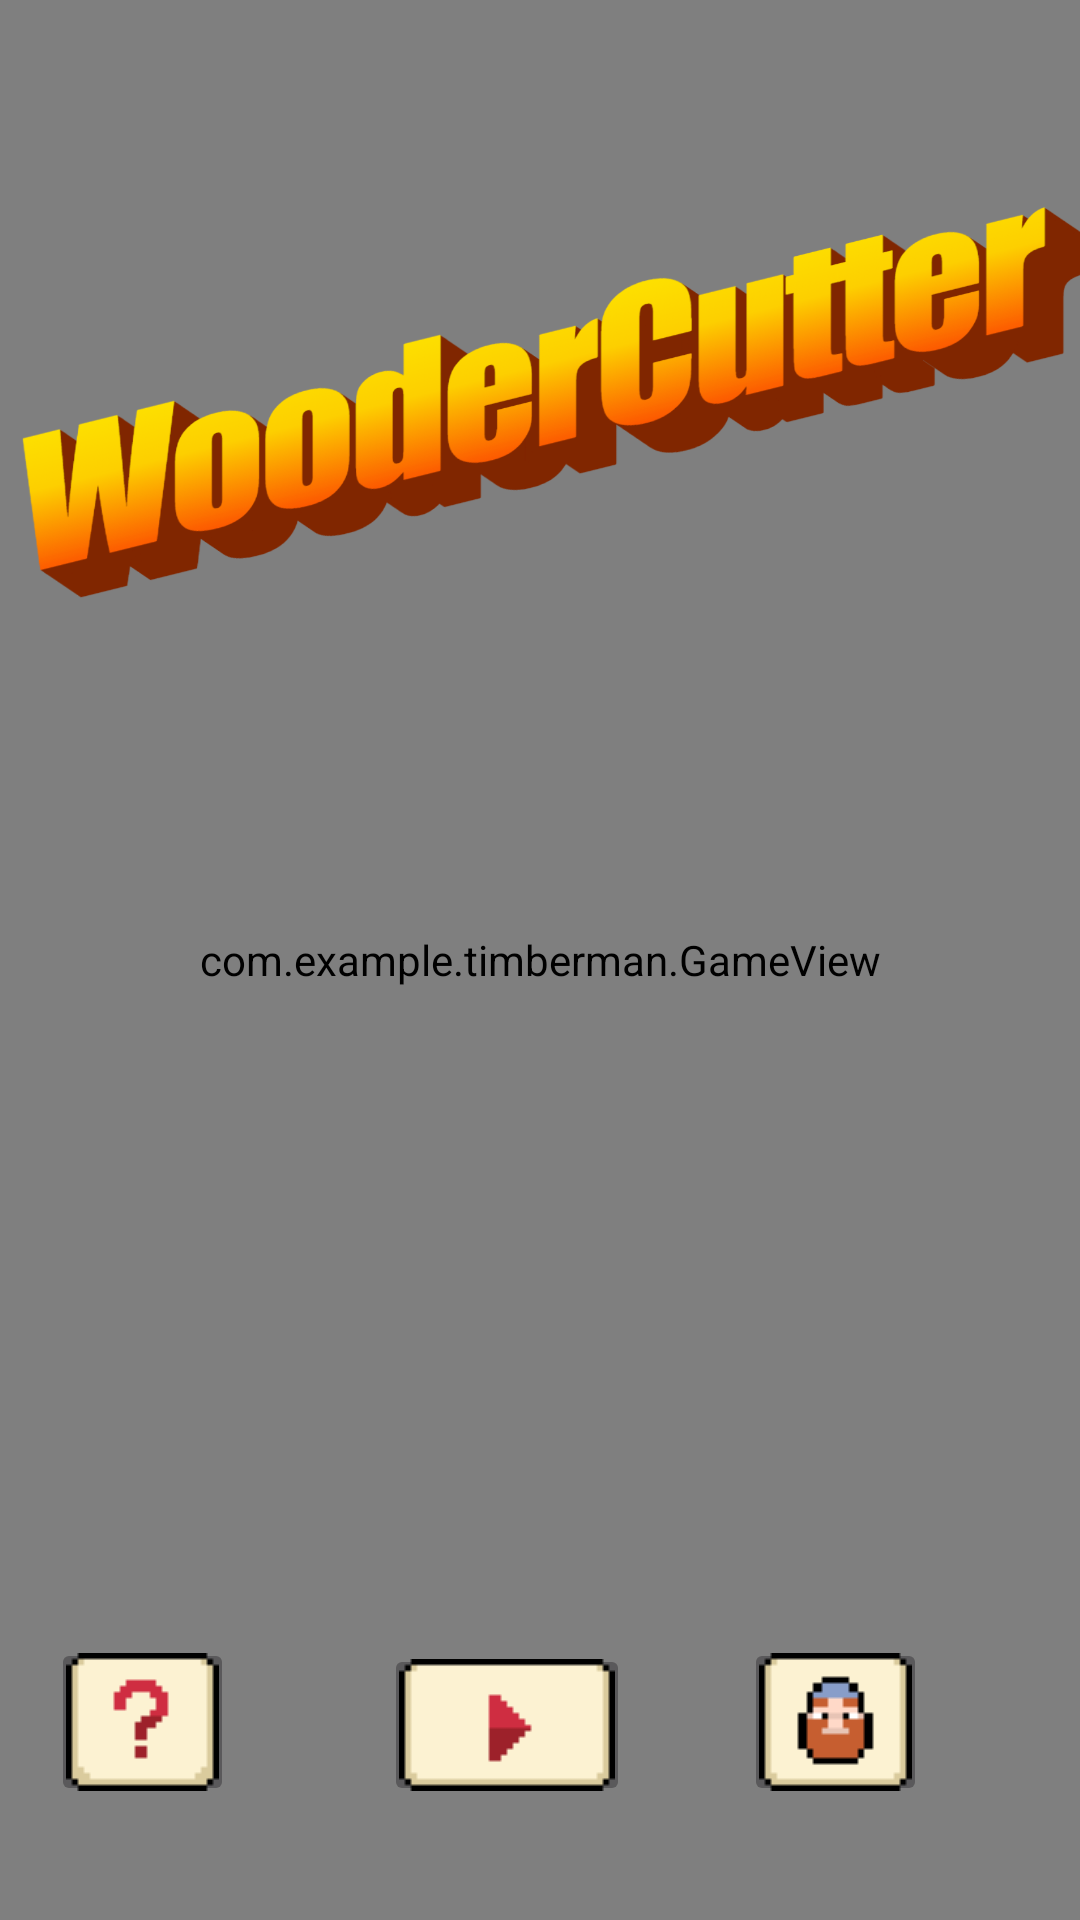

Locate icon controls on the screen. Image size 1080px x 1920px, boxes as [x1, y1, x2, y2].
info: [63, 1653, 222, 1791]
play: [396, 1659, 618, 1791]
